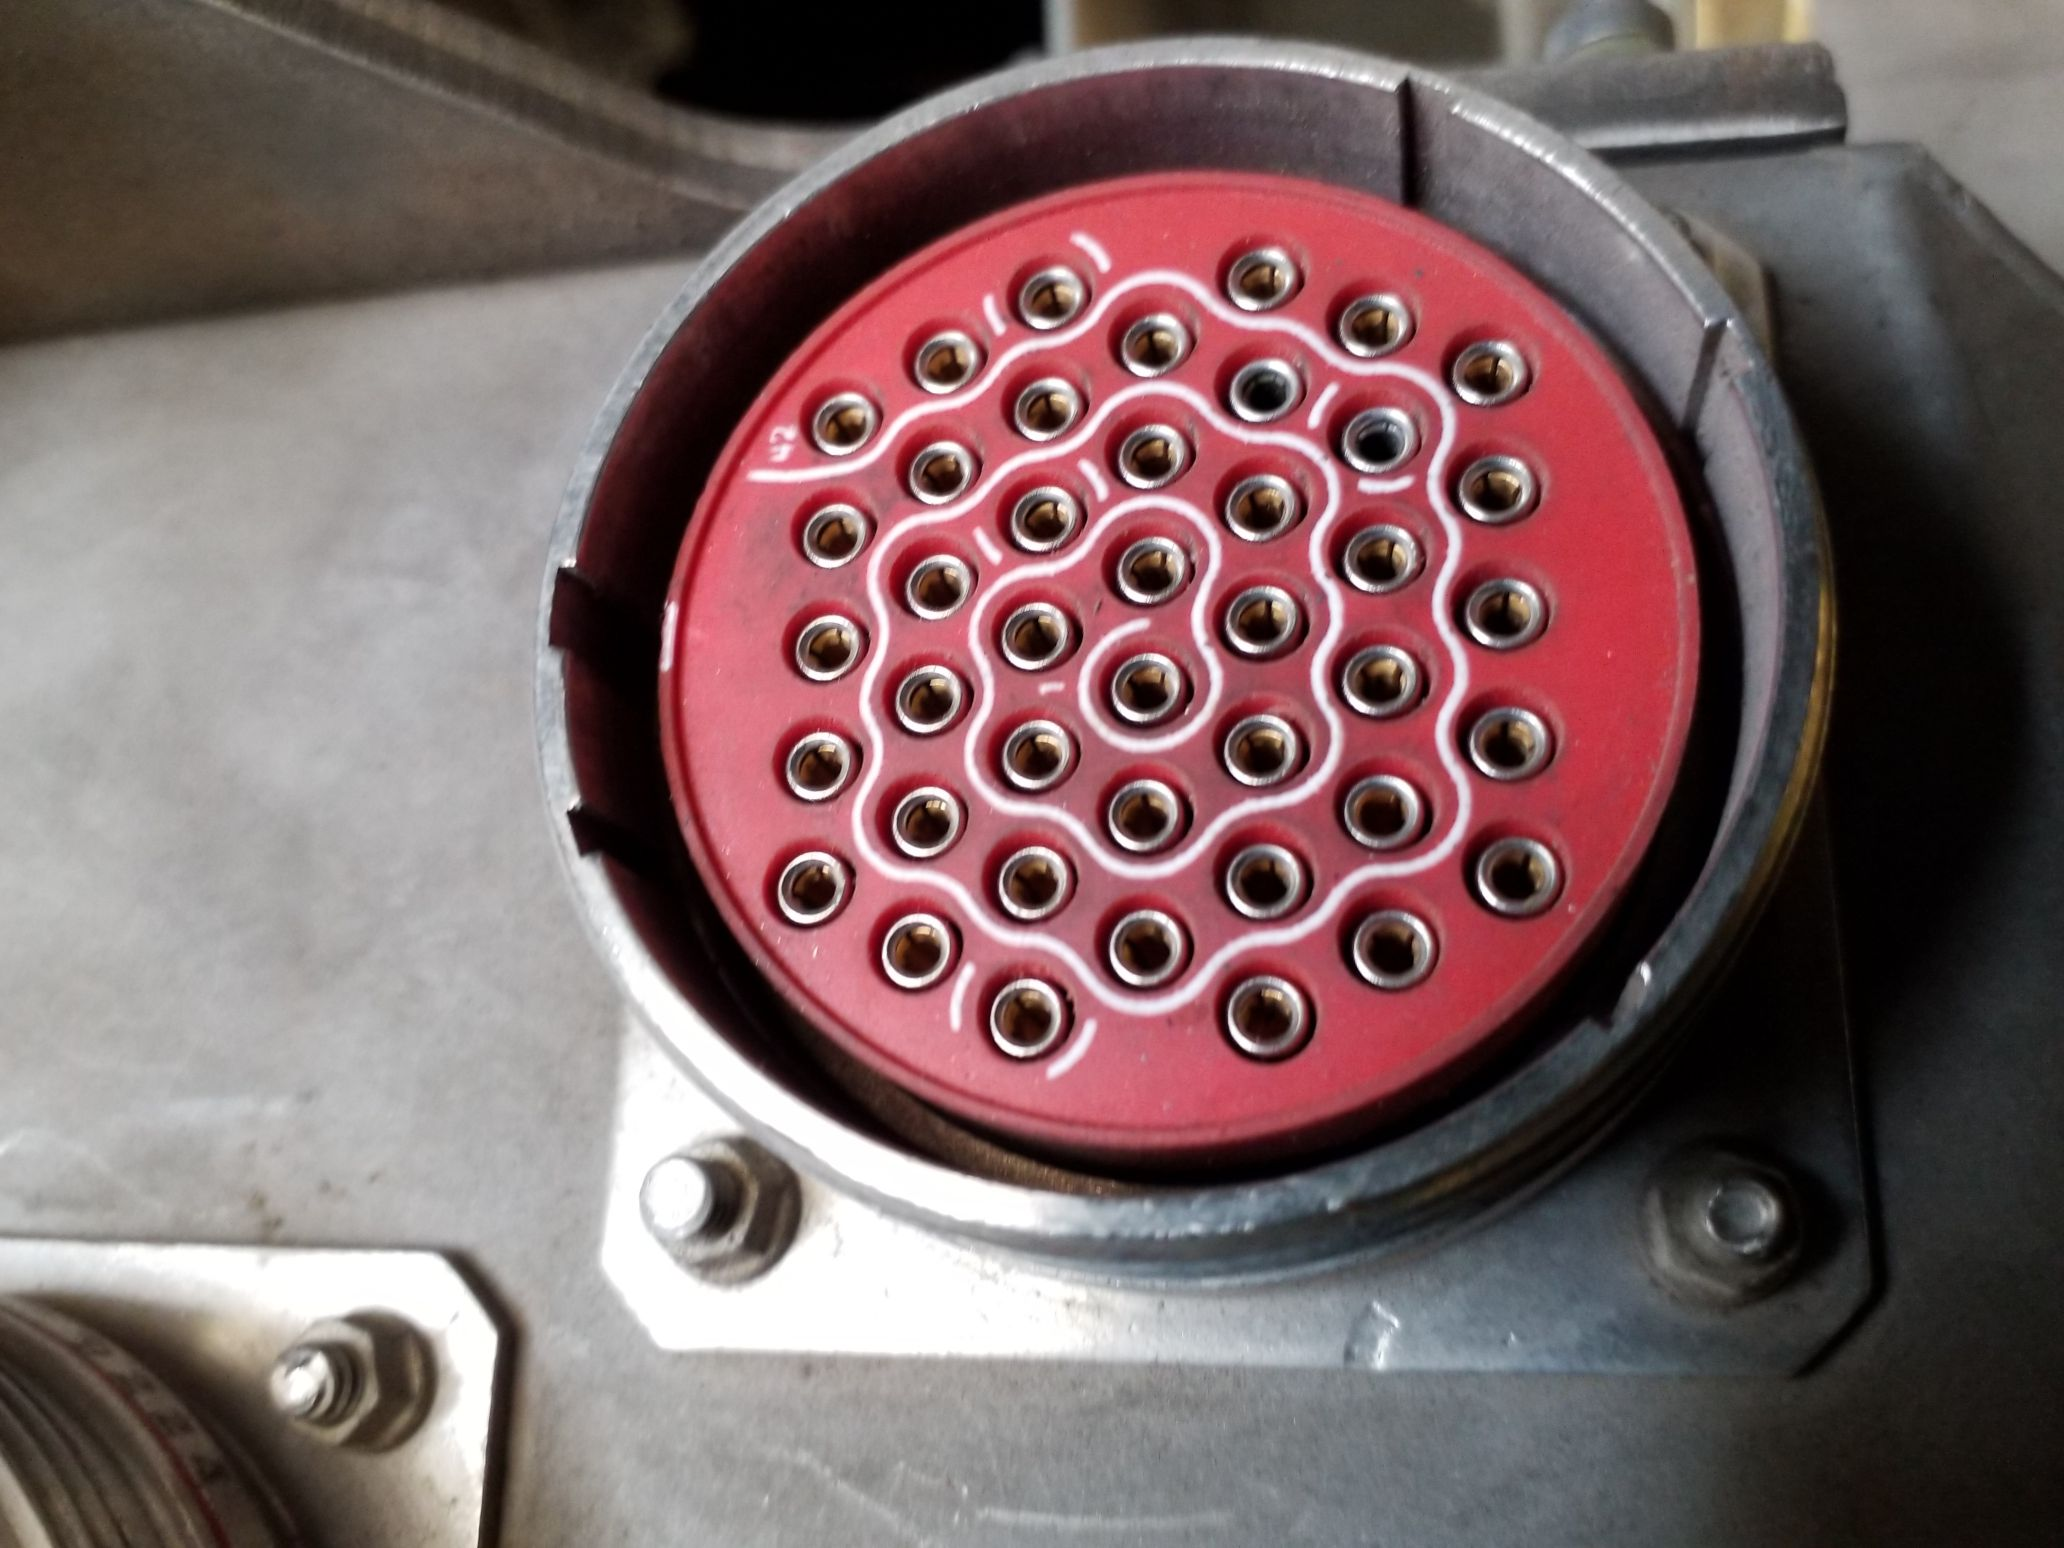inletround: (530, 62, 1830, 1242)
